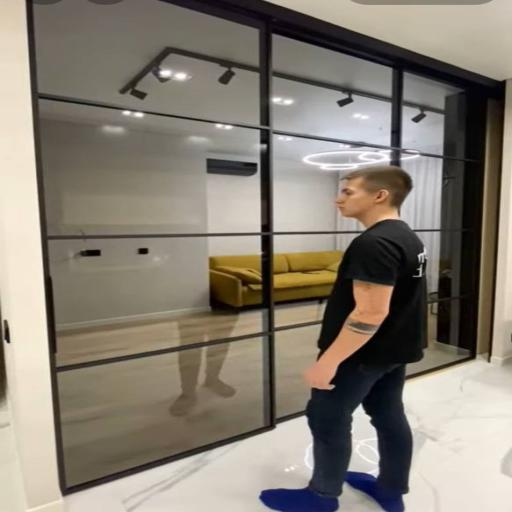hole: (209, 251, 343, 307)
